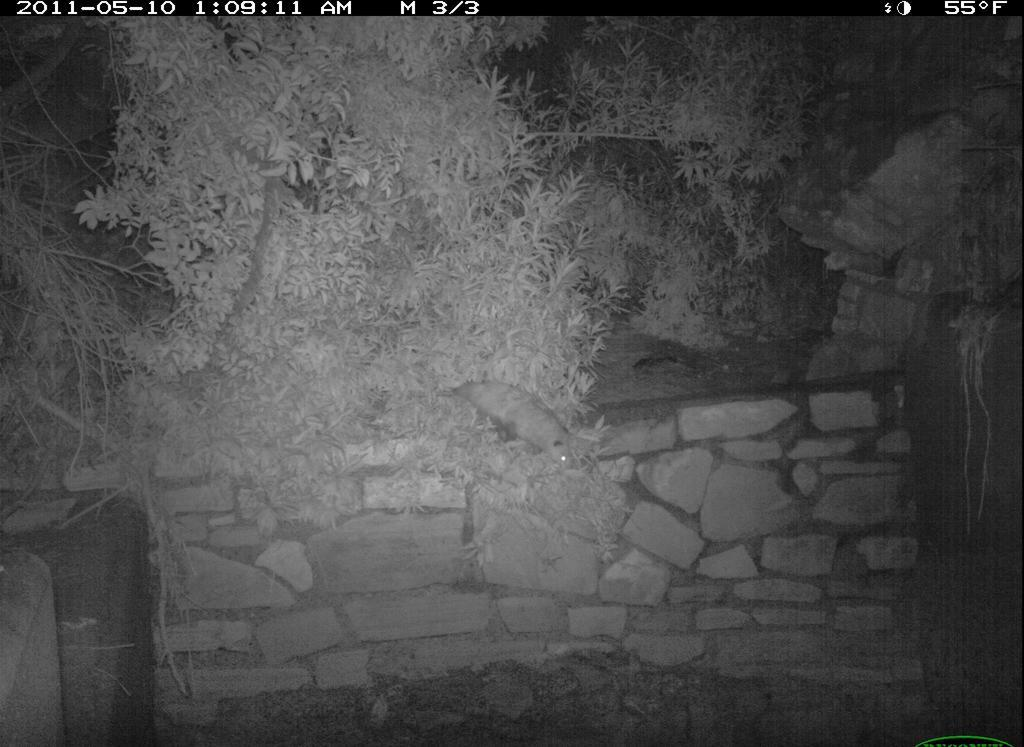opossum: (442, 376, 578, 478)
